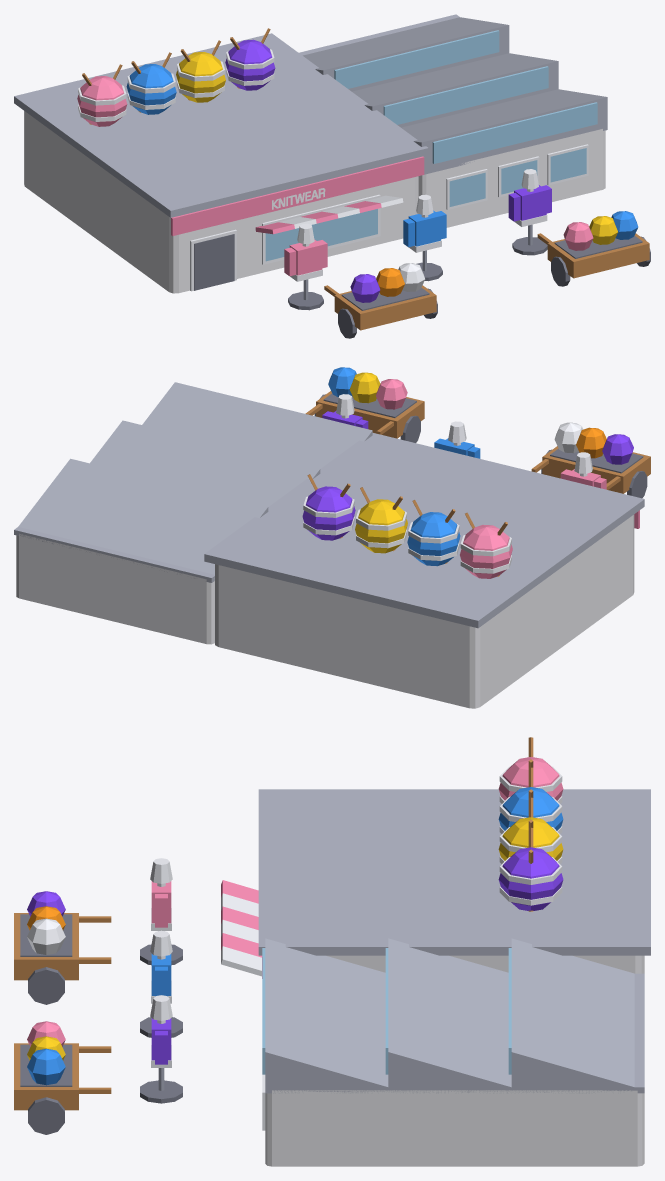
Rendered from knitwear-factory-2x2-t4-tone-a.glb.
The picture shows the model from 3 angles, top to bottom: view 1: azimuth 30°, elevation 25°; view 2: azimuth 150°, elevation 25°; view 3: azimuth 270°, elevation 25°; orthographic projection. The views are drawn at different scales.
Parts seen in each view (by area): view 1: knitwear-factory-2x2-t4-tone-a; view 2: knitwear-factory-2x2-t4-tone-a; view 3: knitwear-factory-2x2-t4-tone-a.
Boxes of the visible parts, box(x1,y1,x2,y2) form: knitwear-factory-2x2-t4-tone-a: box(14, 14, 650, 338); knitwear-factory-2x2-t4-tone-a: box(14, 367, 650, 708); knitwear-factory-2x2-t4-tone-a: box(14, 737, 650, 1166).
Bounding box in the file's own units: 1.96 × 0.5944 × 1.97.
Materials: 1 (1 with a texture image).
